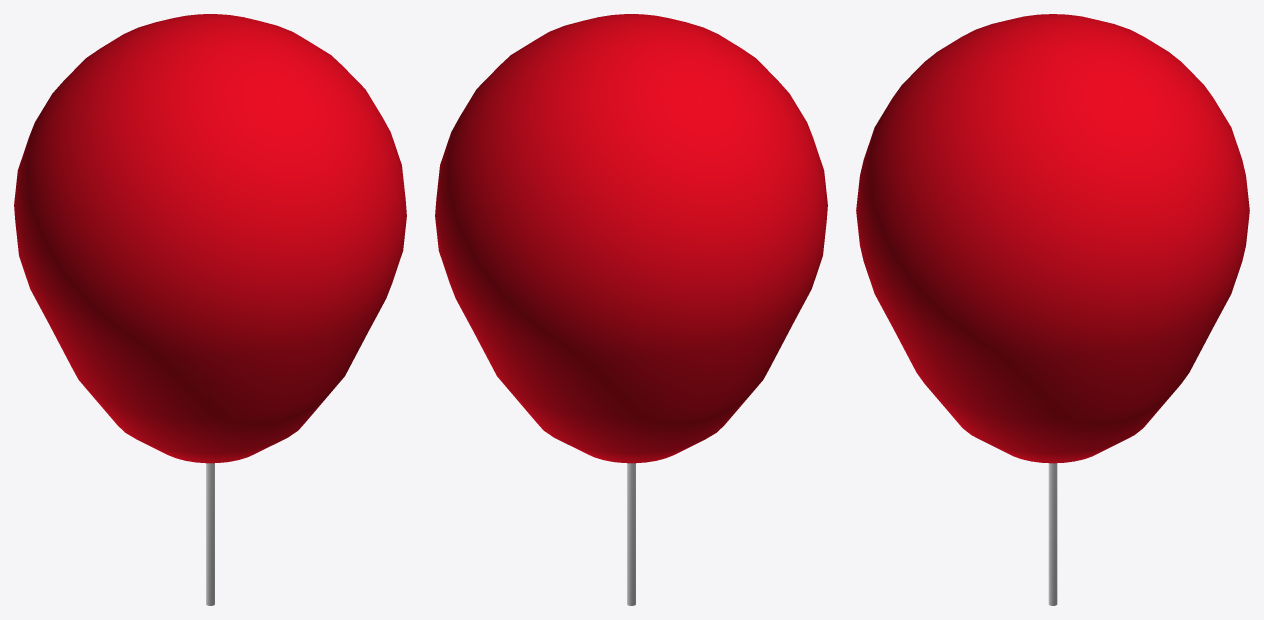
Rendered from balloon.glb.
3 renders of one model, left to right at view 1: azimuth 30°, elevation 25°; view 2: azimuth 150°, elevation 25°; view 3: azimuth 270°, elevation 25°, orthographic.
Parts seen in each view (by area): view 1: Sphere; view 2: Sphere; view 3: Sphere.
Part boxes in pixels (x1,y1,x2,y2): Sphere: (14, 14, 406, 605); Sphere: (435, 14, 827, 605); Sphere: (856, 14, 1249, 605).
Bounding box in the file's own units: 2 × 3.21 × 2.
